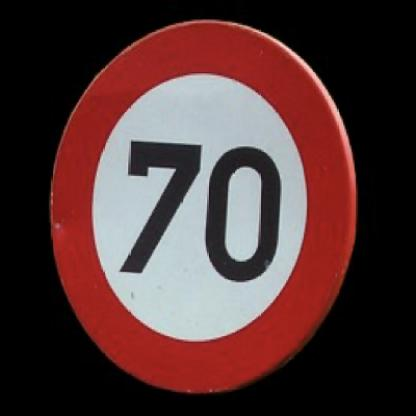speedlimit: (49, 15, 357, 393)
